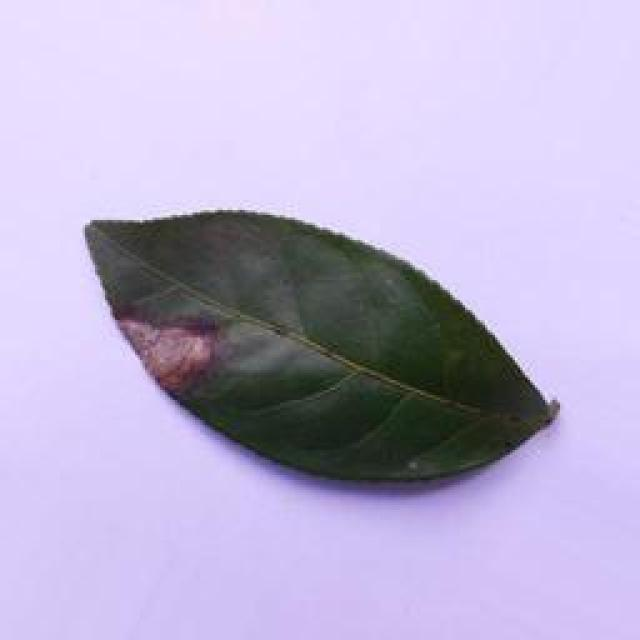Gray Blight: (80, 202, 563, 492)
